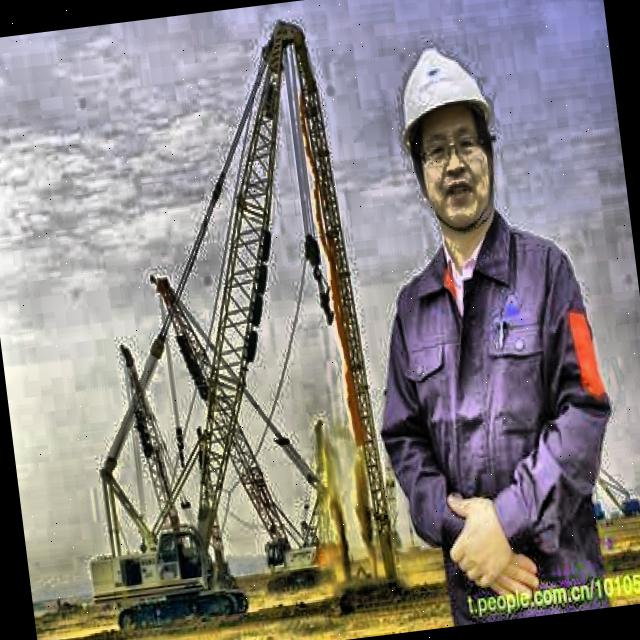helmet: (378, 20, 518, 258)
